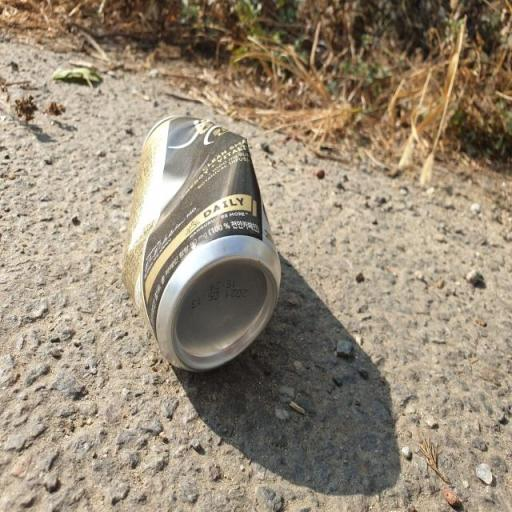metal: (108, 107, 292, 401)
